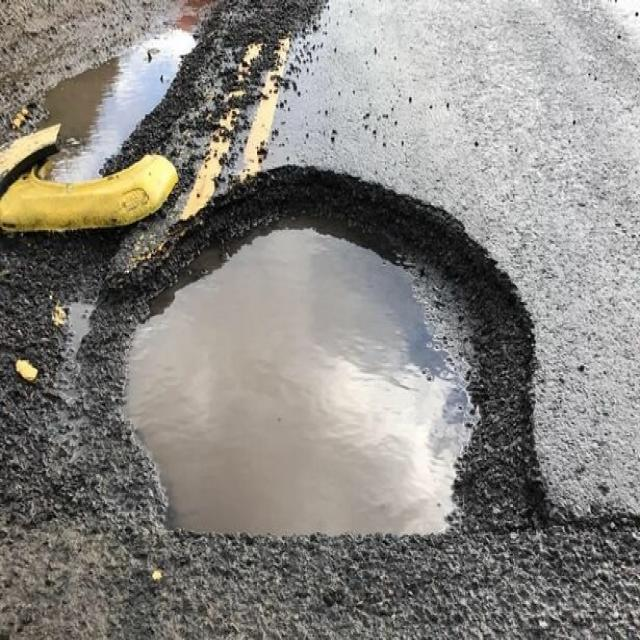Pothole: (94, 159, 562, 562)
